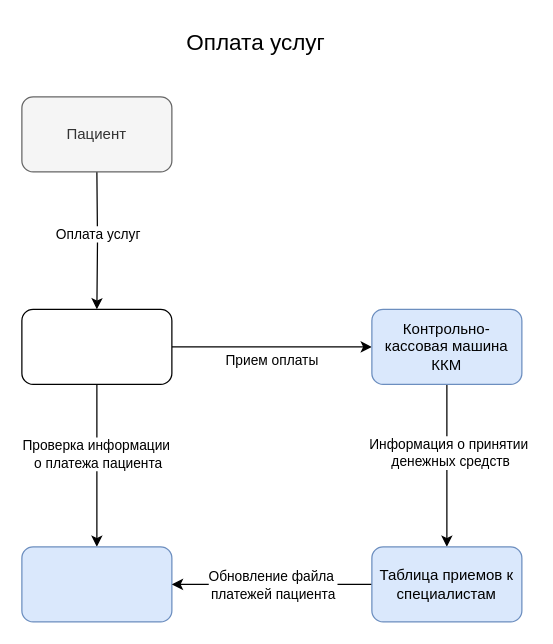
This 553x644 diagram has some shape labels left out. The shapes that lost their labels are listed below. From the top down, each one's box as (x1, y1, x2, y2) in pixels, then its label:
(21, 308, 172, 384): Кассир
(21, 546, 172, 622): Таблица пациентов клиники
